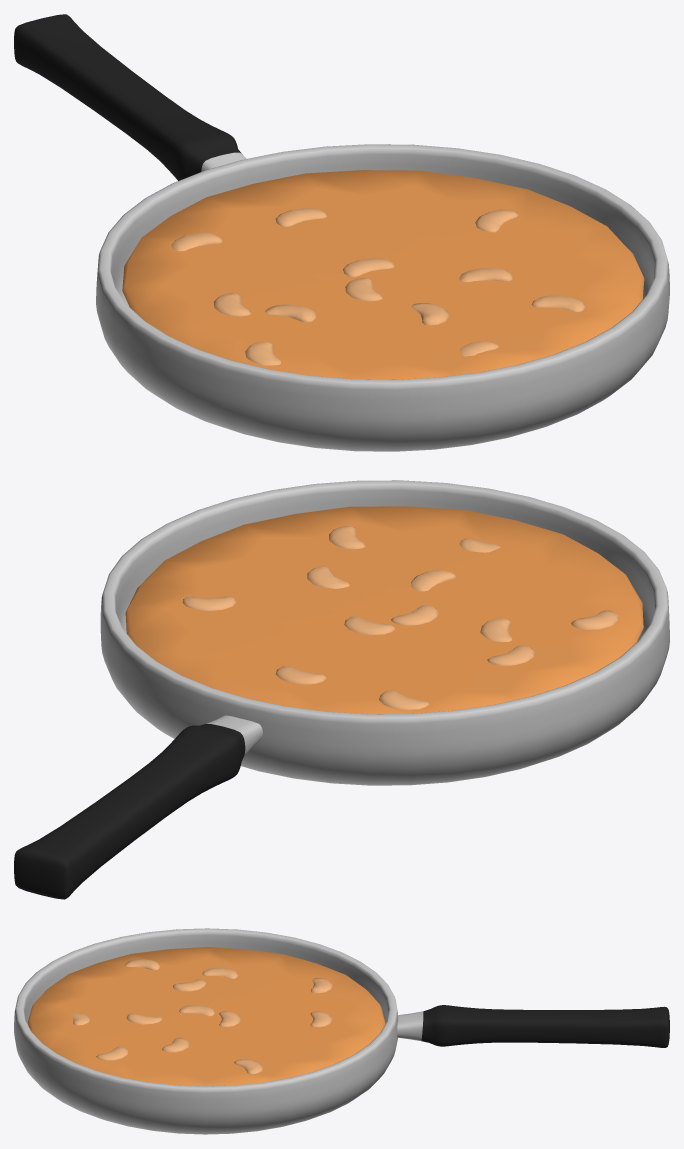
Rendered from Cooked-Food-1.fbx.
3 views of the same model, one above another, from view 1: azimuth 30°, elevation 25°; view 2: azimuth 150°, elevation 25°; view 3: azimuth 270°, elevation 25° (orthographic). The views are drawn at different scales.
Parts seen in each view (by area): view 1: Cooked-Food-1; view 2: Cooked-Food-1; view 3: Cooked-Food-1.
Part boxes in pixels (x1=…): Cooked-Food-1: x1=14, y1=14, x2=669, y2=451; Cooked-Food-1: x1=14, y1=480, x2=669, y2=899; Cooked-Food-1: x1=14, y1=928, x2=669, y2=1134.
Size of the model in its own units: 0.4928 by 0.0862 by 0.8403.
